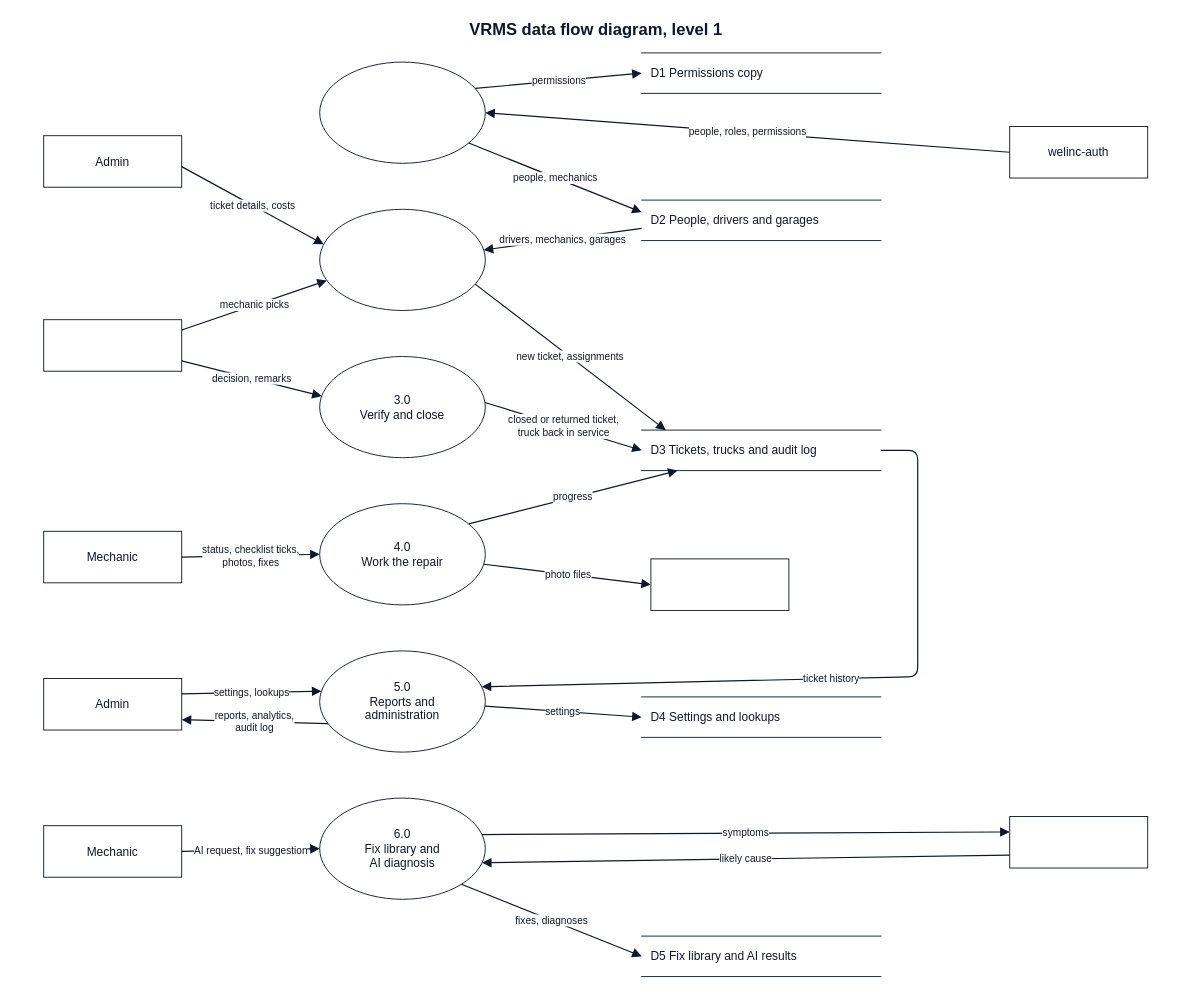
Image size: 1190x993. Some labels were removed from this diagram. Here are the shapes that lost their labels. From the top down, the centre of each, then its label:
At (x=402, y=112): "1.0 Sync people and permissions".
At (x=402, y=259): "2.0 Create and assign tickets".
At (x=112, y=345): "Chief Mechanic".
At (x=719, y=584): "Azure Blob Storage".
At (x=1078, y=842): "Google Gemini".
